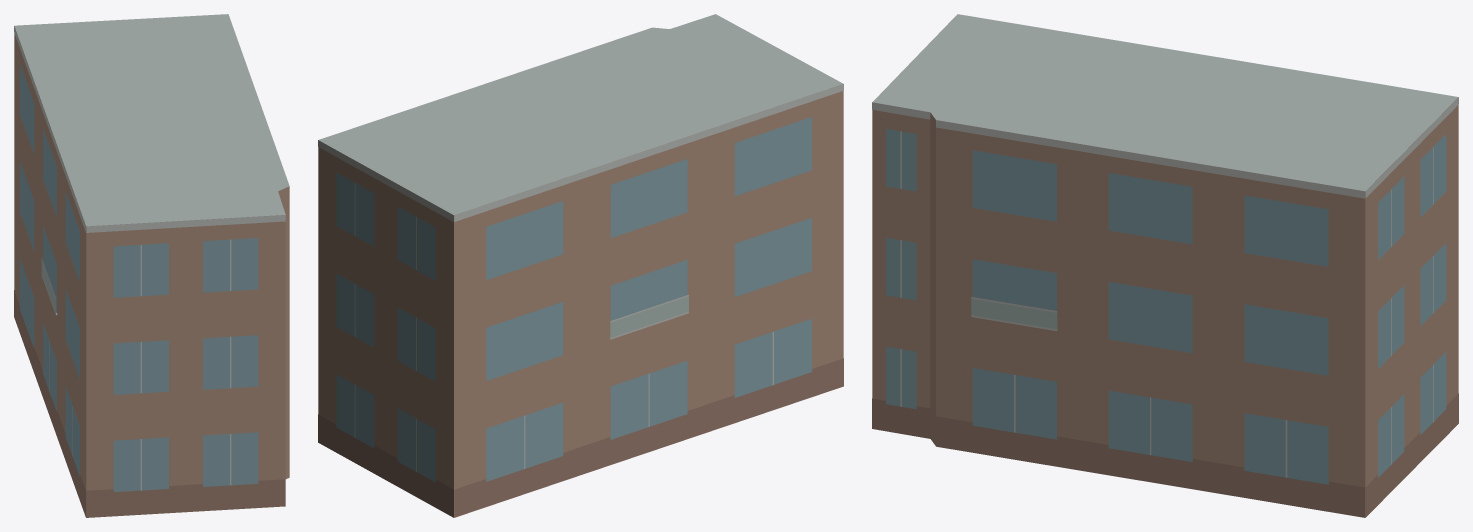
The model's file is survey-upis-32516246.glb.
The picture shows the model from 3 angles, left to right: view 1: azimuth 30°, elevation 25°; view 2: azimuth 150°, elevation 25°; view 3: azimuth 270°, elevation 25°; orthographic projection. The views are drawn at different scales.
Parts seen in each view (by area): view 1: survey-upis-32516246.tmp; view 2: survey-upis-32516246.tmp; view 3: survey-upis-32516246.tmp.
Part boxes in pixels (x1=…): survey-upis-32516246.tmp: x1=14, y1=14, x2=289, y2=517; survey-upis-32516246.tmp: x1=318, y1=14, x2=843, y2=517; survey-upis-32516246.tmp: x1=872, y1=14, x2=1458, y2=517.
Bounding box in the file's own units: 12.59 × 10.8 × 17.59.
